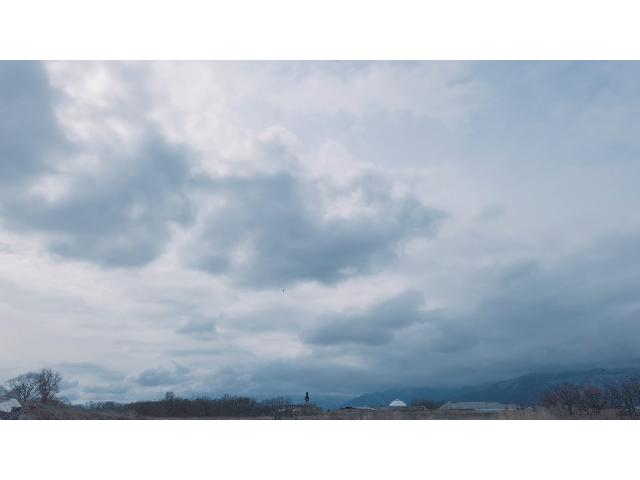Anti-Drone: (279, 287, 287, 295)
